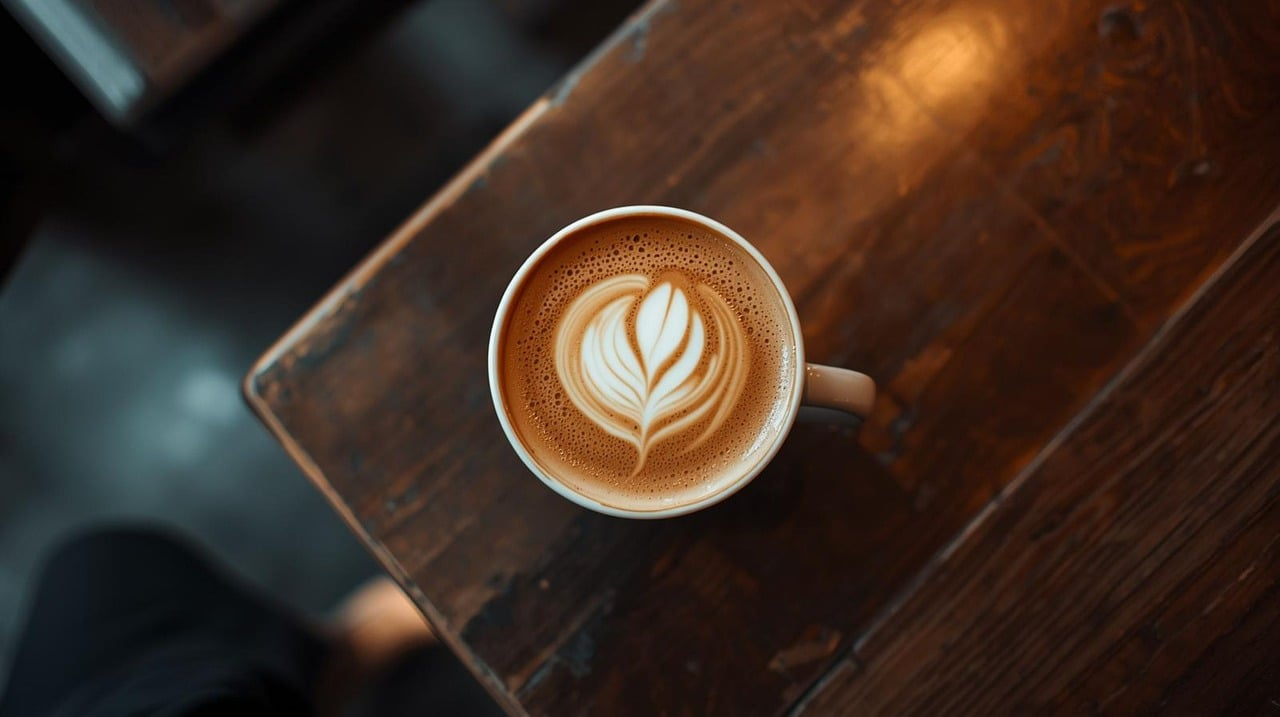mug: (486, 180, 893, 548)
